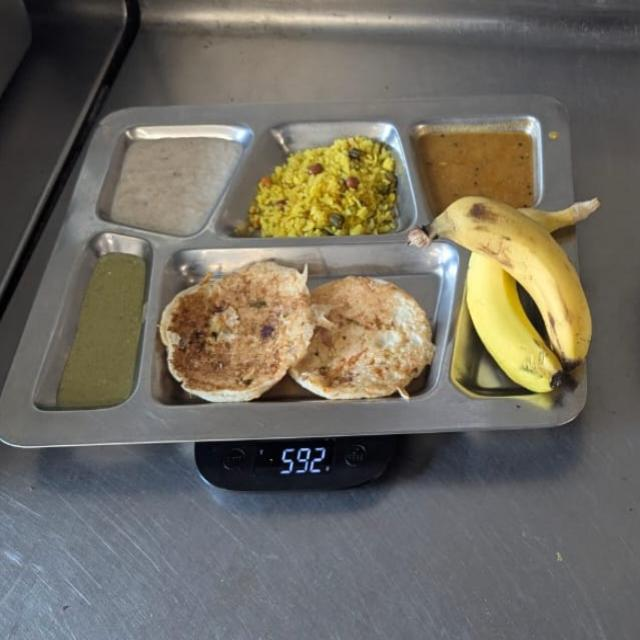Banana: (433, 201, 595, 394)
Chutney: (59, 250, 153, 412)
Poha: (250, 140, 404, 243)
Porridge: (112, 138, 242, 232)
Sambhar: (414, 126, 542, 207)
Uttapam: (160, 259, 432, 407)
